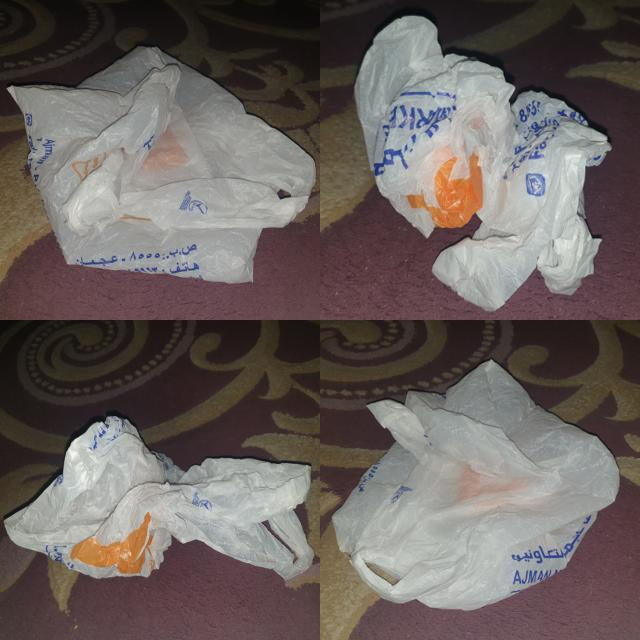Single-layer Plastic: (355, 16, 611, 311), (8, 46, 315, 282), (332, 360, 619, 609), (5, 416, 314, 579)
